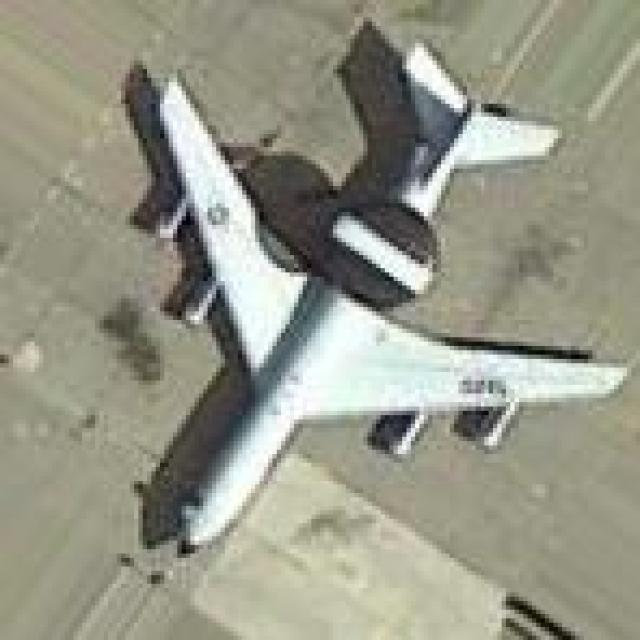E-3_TopDown: (108, 13, 631, 558)
